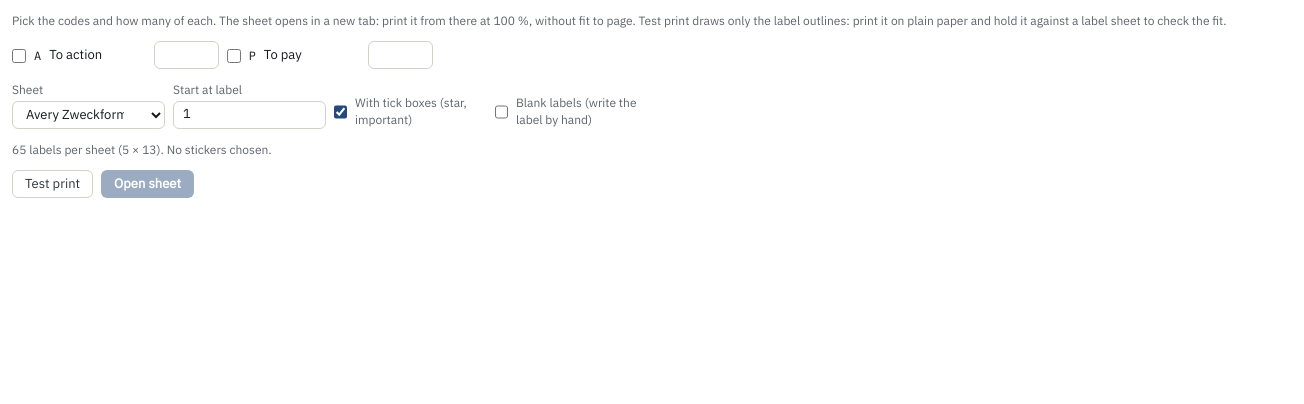
Test case: Print stickers (Settings) › a refused custom sheet shows why
This screenshot has width=1304, height=404.
Expected: the checkbox named "Print A" is shown, [12, 49, 26, 63]
Select "Custom" in the dropdown labelled "Sheet" at (88, 115), box [12, 101, 165, 129]
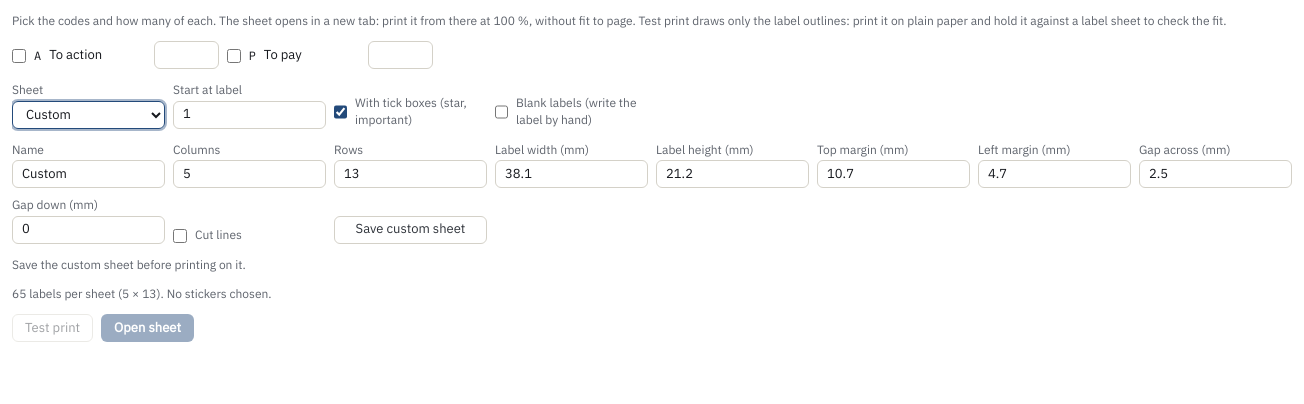
Click the button "Save custom sheet".
click(410, 230)  # box [334, 216, 487, 244]
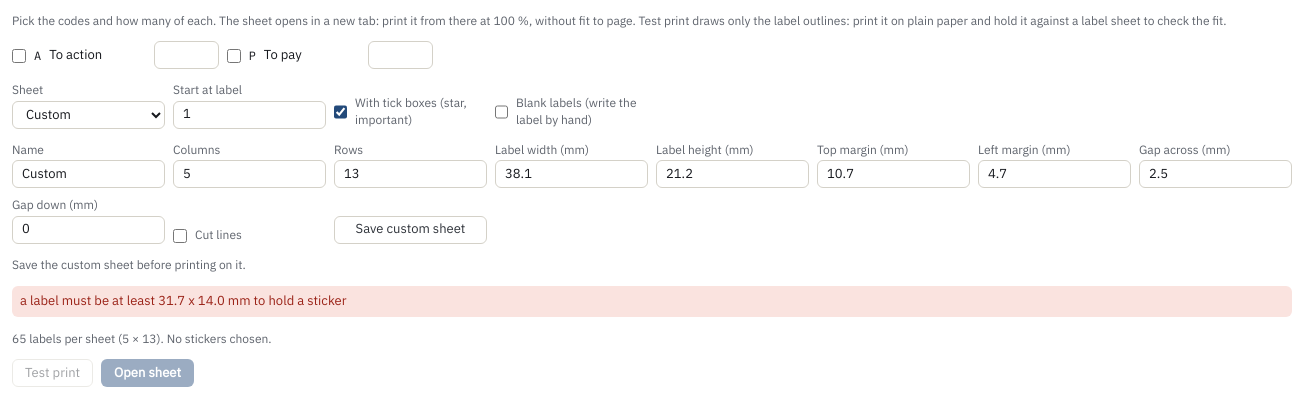
Now the message shows "a label must be at least 31.7 x 14.0 mm", box [20, 292, 346, 309]
